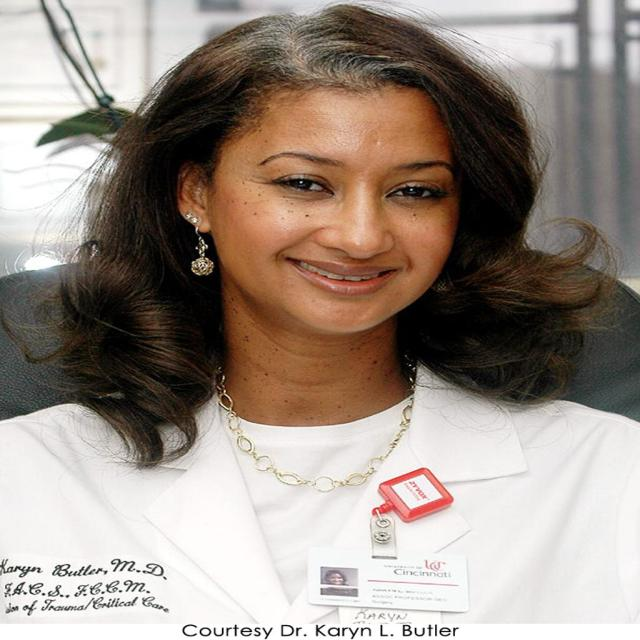Face: (231, 75, 454, 356)
